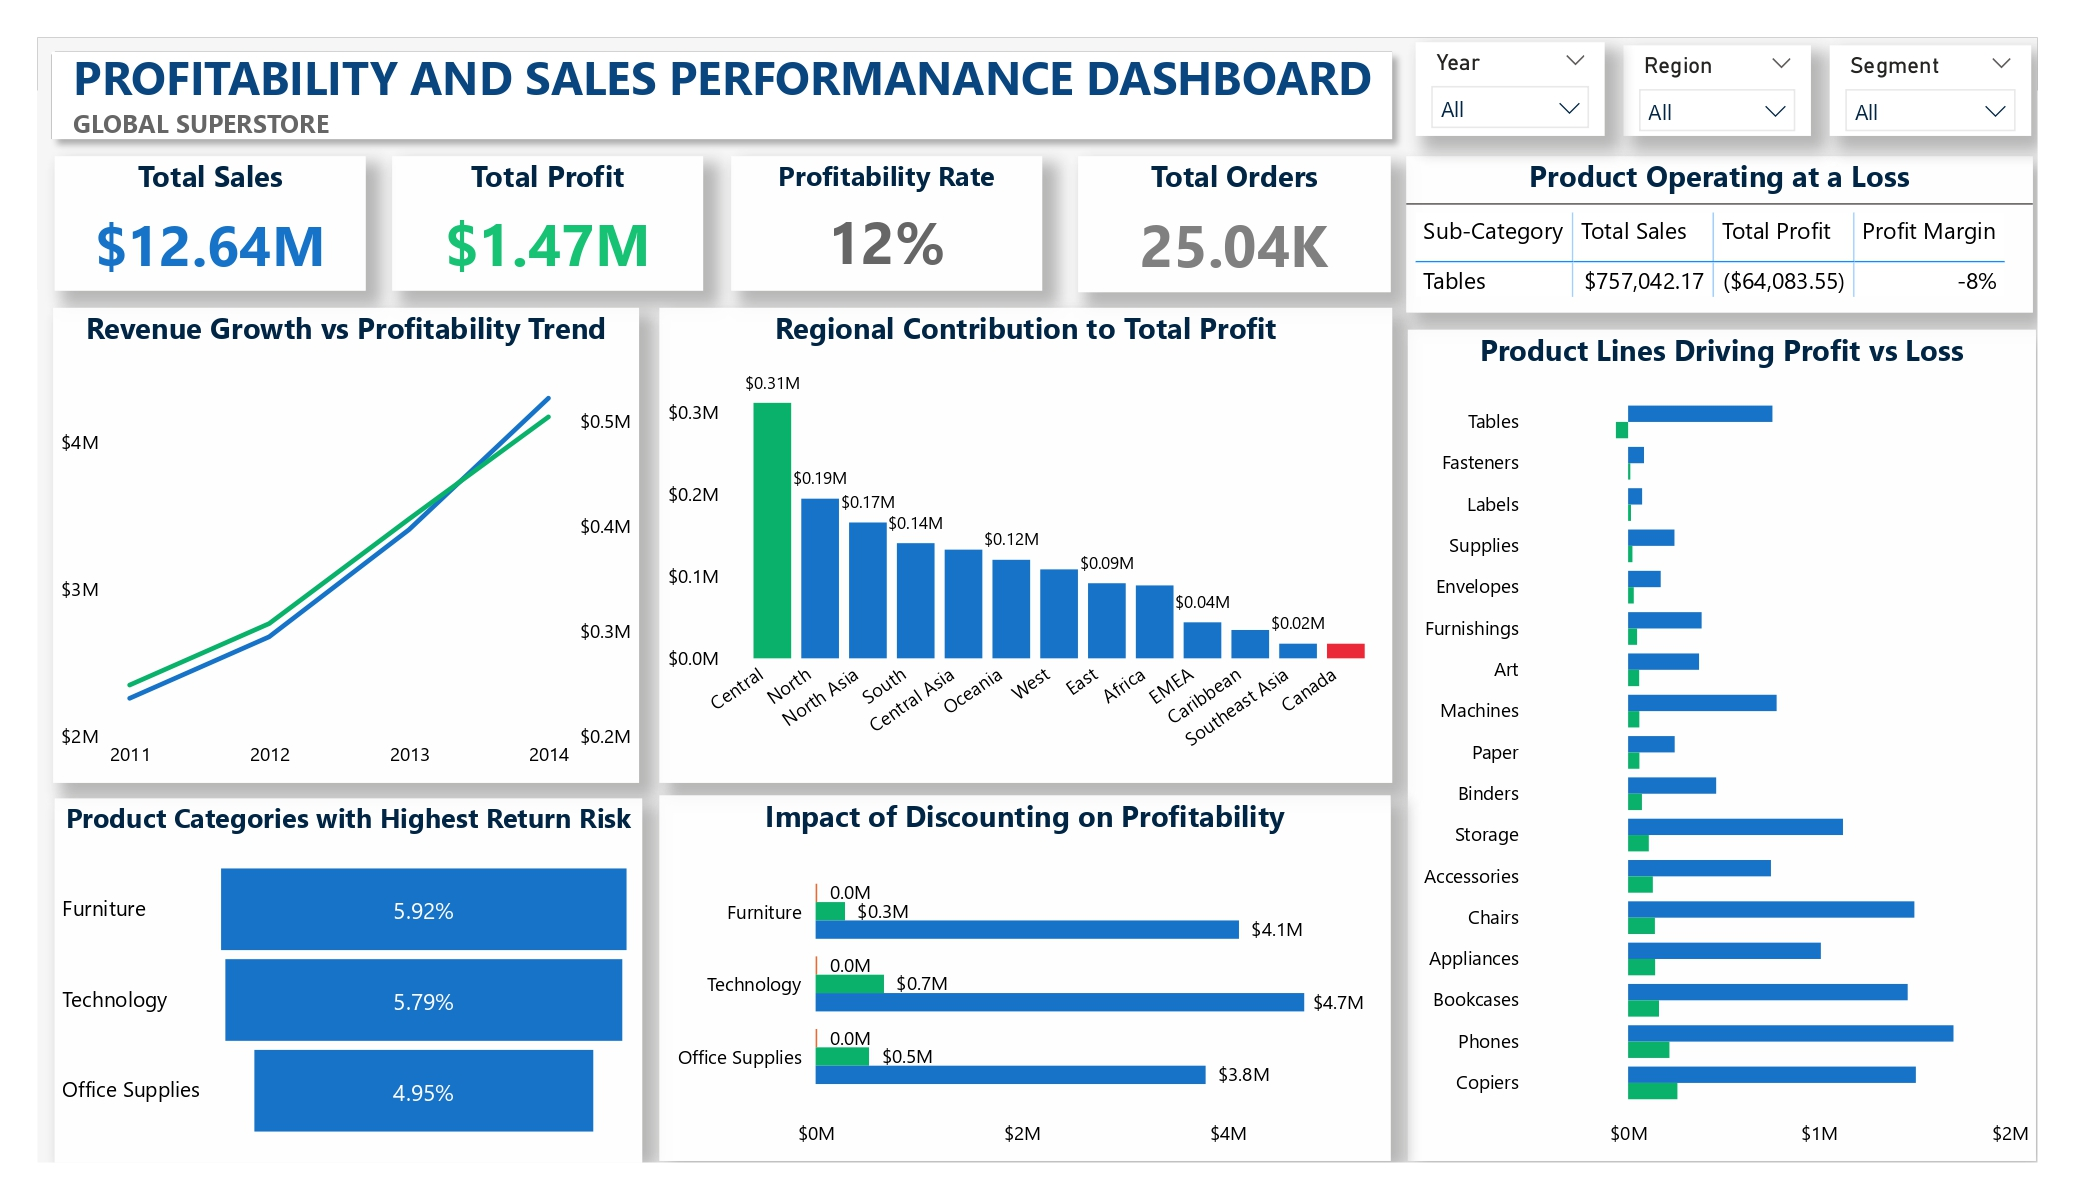

The dashboard page shown, as its layout file describes it:
{"tool":"powerbi","page":{"name":"Dashboard","canvas":[1280,720],"ordinal":0},"visuals":[{"type":"card","title":"Total Sales","fields":{"Values":["Orders.Total Sales"]},"box":[11.1,76.3,198.8,85.9],"z":0},{"type":"card","title":"Total Profit","fields":{"Values":["Orders.Total Profit"]},"box":[227.5,76.3,198.8,85.9],"z":1000},{"type":"card","title":"Profitability Rate","fields":{"Values":["Orders.Profit Margin"]},"box":[443.8,76.3,198.8,85.9],"z":2000},{"type":"card","title":"Total Orders","fields":{"Values":["Orders.Total Orders"]},"box":[666.1,75.8,200,87.1],"z":3000},{"type":"lineChart","title":"Revenue Growth vs Profitability Trend","fields":{"Category":["Orders.Order Date.Variation.Date Hierarchy.Year","Orders.Order Date.Variation.Date Hierarchy.Month"],"Y":["Orders.Total Sales"],"Y2":["Orders.Total Profit"]},"box":[9.7,172.6,375.8,304.8],"z":4000},{"type":"columnChart","title":"Regional Contribution to Total Profit","fields":{"Category":["Orders.Region"],"Y":["Orders.Total Profit"]},"box":[398.3,173.3,468.3,303.3],"z":5000},{"type":"tableEx","title":"Product Operating at a Loss","fields":{"Values":["Orders.Sub-Category","Orders.Total Sales","Orders.Total Profit","Orders.Profit Margin"]},"box":[875.8,75.8,401.6,100],"z":6000},{"type":"clusteredBarChart","title":"Product Lines Driving Profit vs Loss","fields":{"Category":["Orders.Sub-Category"],"Y":["Orders.Total Sales","Orders.Total Profit"]},"box":[877.4,187.1,401.6,532.3],"z":7000},{"type":"funnel","title":"Product Categories with Highest Return Risk","fields":{"Category":["Orders.Category"],"Y":["Orders.Return Rate"]},"box":[11.1,486.7,375.4,233.8],"z":8000},{"type":"slicer","fields":{"Values":["People.Region"]},"box":[1014.5,4.8,121,58.1],"z":9000},{"type":"slicer","fields":{"Values":["Orders.Segment"]},"box":[1146.8,4.8,129,58.1],"z":10000},{"type":"slicer","fields":{"Values":["Orders.Order Date.Variation.Date Hierarchy.Year"]},"box":[882.3,3.2,121,59.7],"z":11000},{"type":"clusteredBarChart","title":"Impact of Discounting on Profitability","fields":{"Category":["Orders.Category"],"Y":["Orders.Average Discount","Orders.Total Profit","Orders.Total Sales"]},"box":[398.4,485.5,467.7,233.9],"z":12000},{"type":"shape","box":[0,0,875.8,74.2],"z":13000},{"type":"textbox","title":"PROFITABILITY AND SALES PERFORMANANCE DASHBOARD","box":[17.7,4.8,864.5,59.7],"z":14000}]}

Visuals, with their boxes on the page's 1280x720 design canvas (x1, y1, x2, y2). These are canvas units, not pixel positions in the 2075x1200 screenshot, which may show the page scaled, cropped or inside an application window:
"Total Sales" card: BBox(11, 76, 210, 162)
"Total Profit" card: BBox(228, 76, 426, 162)
"Profitability Rate" card: BBox(444, 76, 643, 162)
"Total Orders" card: BBox(666, 76, 866, 163)
"Revenue Growth vs Profitability Trend" lineChart: BBox(10, 173, 386, 477)
"Regional Contribution to Total Profit" columnChart: BBox(398, 173, 867, 477)
"Product Operating at a Loss" tableEx: BBox(876, 76, 1277, 176)
"Product Lines Driving Profit vs Loss" clusteredBarChart: BBox(877, 187, 1279, 719)
"Product Categories with Highest Return Risk" funnel: BBox(11, 487, 386, 720)
slicer - People.Region: BBox(1014, 5, 1136, 63)
slicer - Orders.Segment: BBox(1147, 5, 1276, 63)
slicer - Orders.Order Date.Variation.Date Hierarchy.Year: BBox(882, 3, 1003, 63)
"Impact of Discounting on Profitability" clusteredBarChart: BBox(398, 486, 866, 719)
shape: BBox(0, 0, 876, 74)
"PROFITABILITY AND SALES PERFORMANANCE DASHBOARD" textbox: BBox(18, 5, 882, 64)
